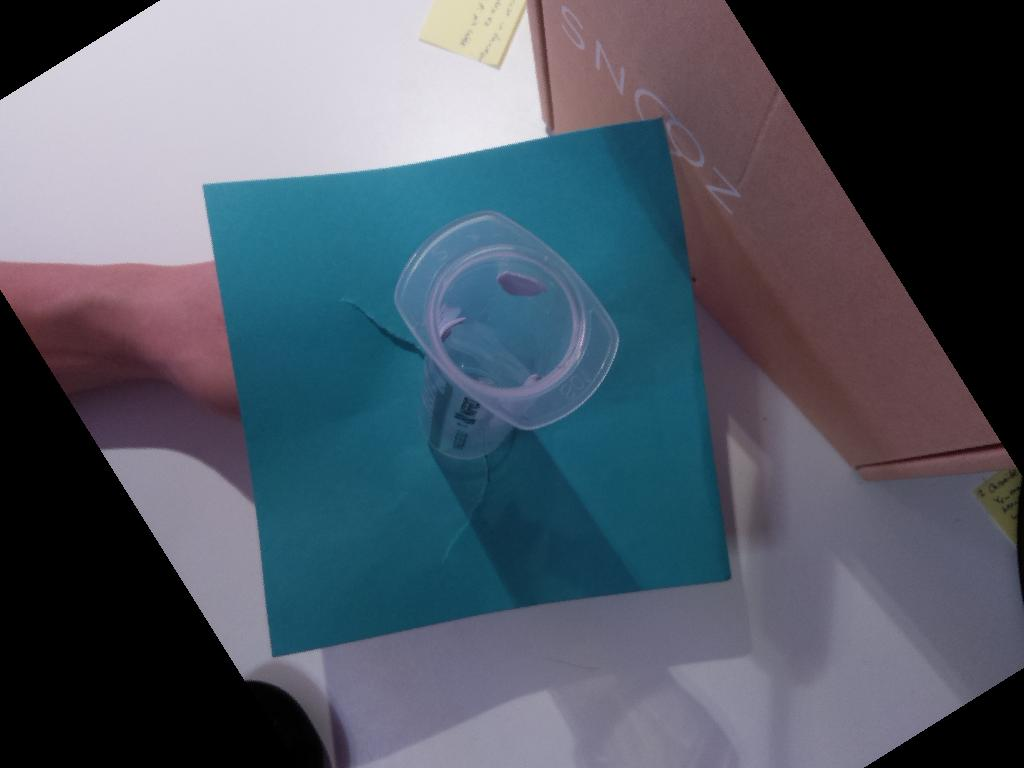dirty: (393, 208, 619, 430)
